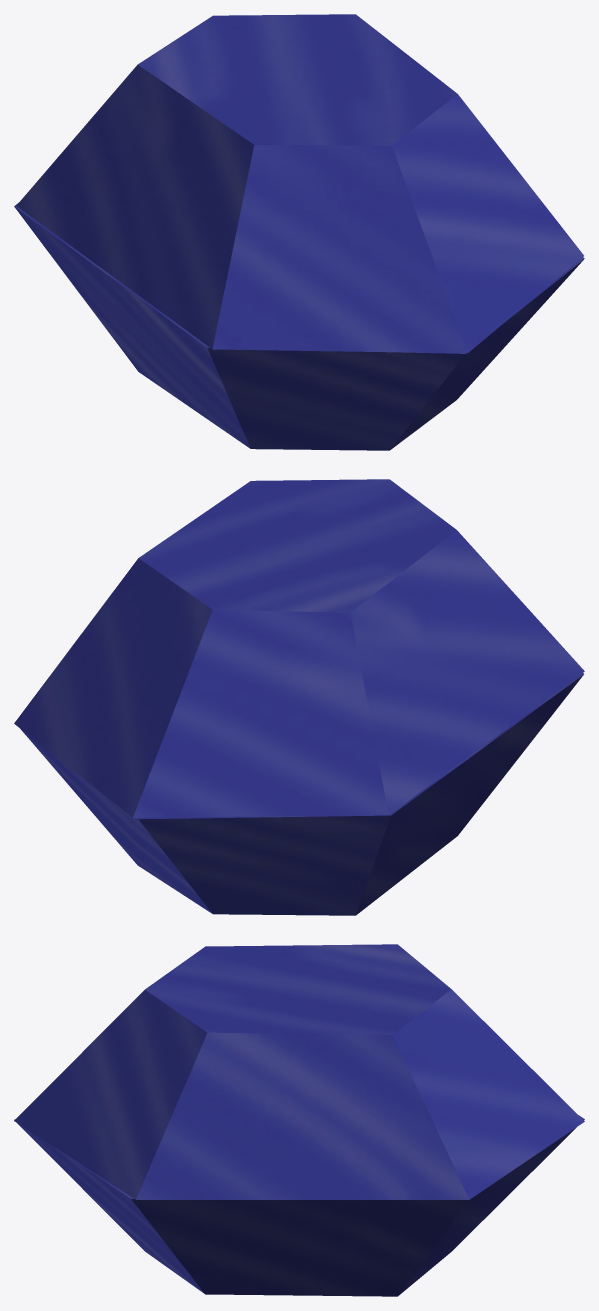
The model's file is Gem2.FBX.
3 views of the same model, one above another, from view 1: azimuth 30°, elevation 25°; view 2: azimuth 150°, elevation 25°; view 3: azimuth 270°, elevation 25° (orthographic). The views are drawn at different scales.
Parts seen in each view (by area): view 1: Shape2, Shape004; view 2: Shape2, Shape004; view 3: Shape2, Shape004.
Boxes of the visible parts, box(x1,y1,x2,y2) form: Shape2: box(16, 14, 583, 353); Shape004: box(14, 203, 584, 450); Shape2: box(14, 479, 584, 817); Shape004: box(20, 673, 583, 915); Shape2: box(14, 944, 584, 1199); Shape004: box(14, 1115, 584, 1296).
Bounding box in the file's own units: 2.59 × 2 × 3.94.
Materials: 1 (1 with a texture image).
